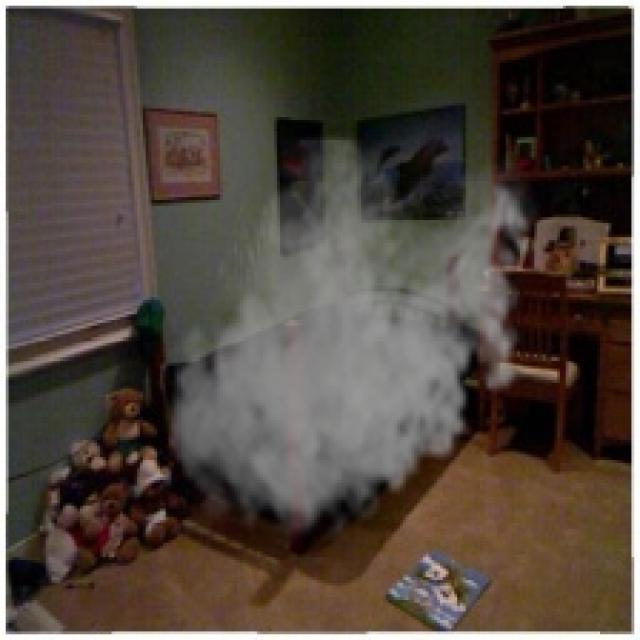smoke: (160, 134, 543, 549)
